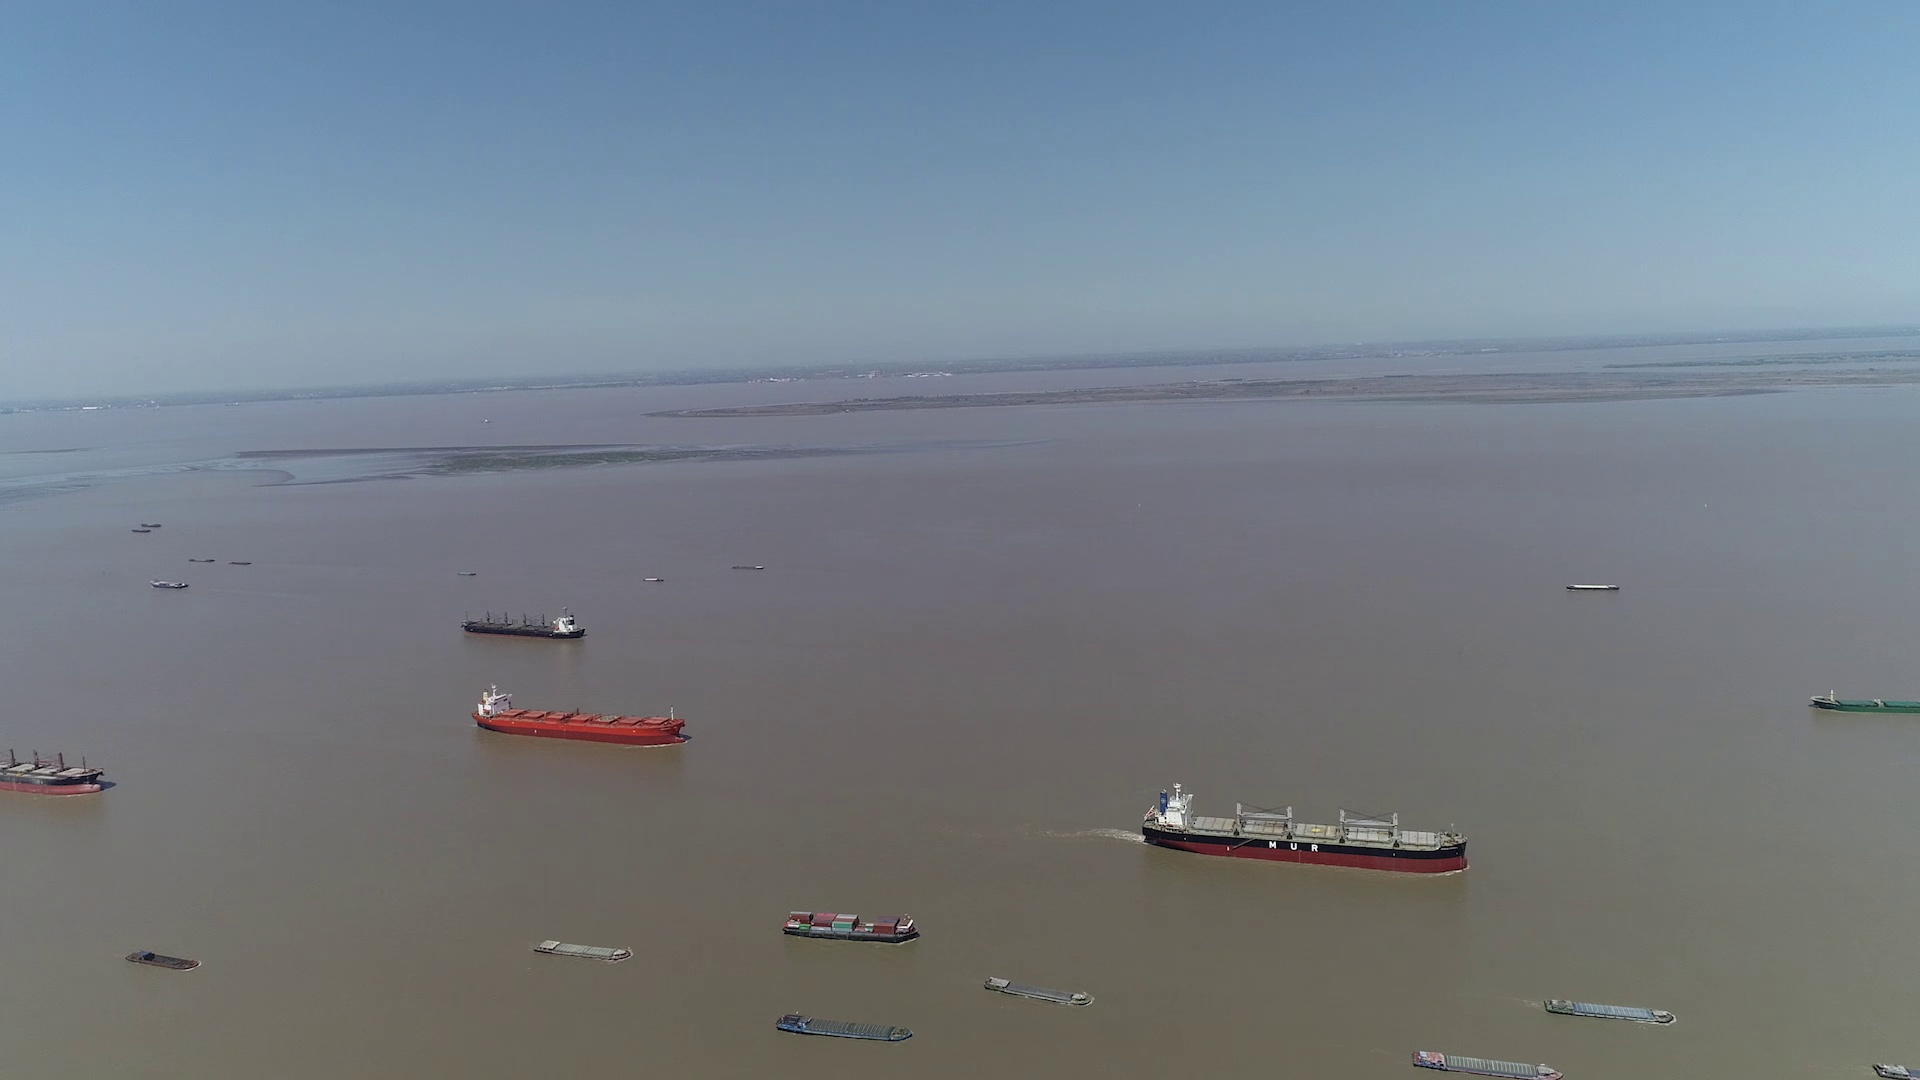ship: (1143, 785, 1470, 876), (477, 684, 684, 748), (1, 740, 109, 796), (1408, 1047, 1564, 1079), (781, 909, 919, 943), (773, 1011, 914, 1044), (464, 608, 583, 641), (1545, 996, 1677, 1025), (984, 976, 1091, 1007), (1809, 691, 1919, 715), (533, 939, 632, 963), (125, 951, 200, 972), (1873, 1063, 1917, 1080), (1569, 582, 1618, 591), (152, 580, 190, 589)
